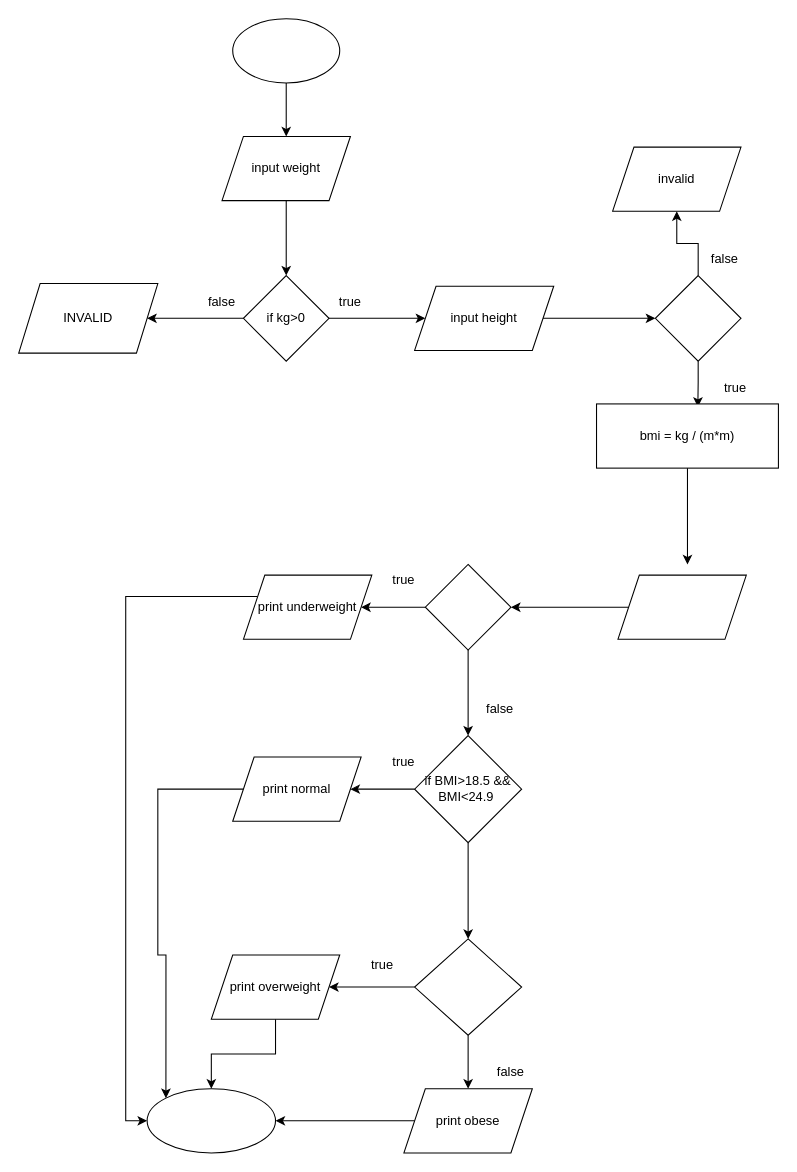
The diagram is 797 pixels wide and 1172 high, and some of its shapes have lost their labels. Each missing label, with the box of its shape:
END: (146, 1088, 276, 1153)
if BMI<18.5: (424, 563, 511, 650)
if BMI>25 && BMI<29.9: (414, 938, 522, 1035)
m>0: (654, 274, 741, 361)
print BMI: (617, 574, 746, 639)
start: (232, 18, 340, 83)
